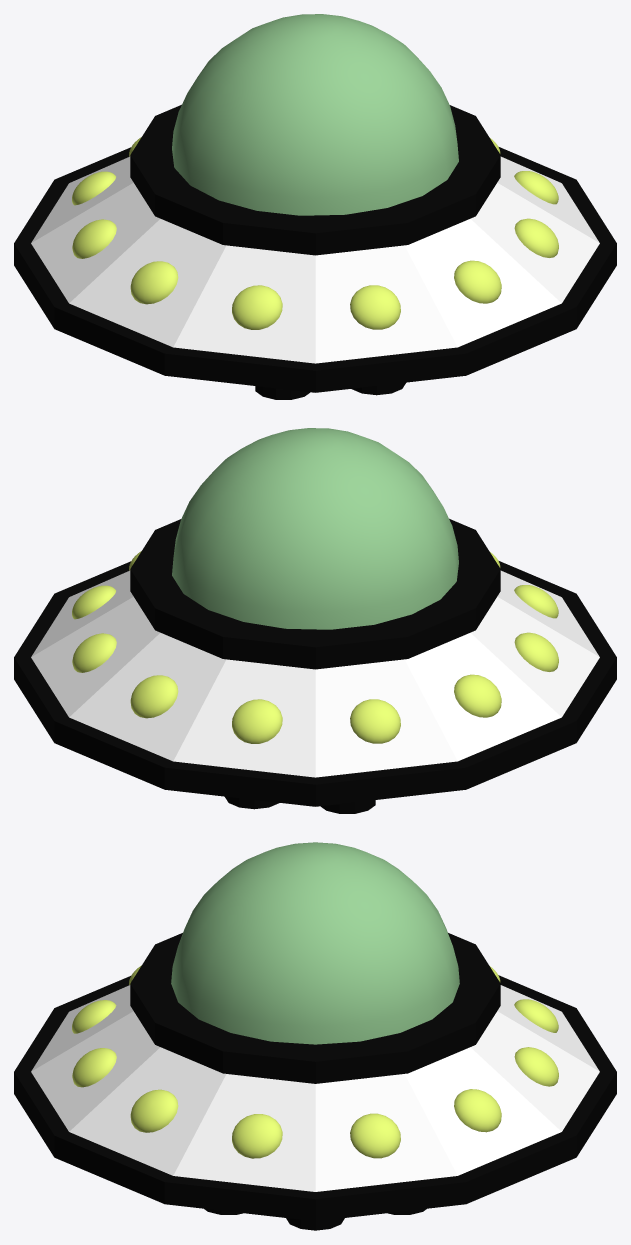
Rendered from EnemySaucer.fbx.
3 renders of one model, top to bottom at view 1: azimuth 30°, elevation 25°; view 2: azimuth 150°, elevation 25°; view 3: azimuth 270°, elevation 25°, orthographic.
Visible parts, largest first — view 1: Body_Top, Window, Body_Mid, Belt, Det (×2), Det1, Det10, Det9, Det2, Det3, Det8; view 2: Body_Top, Window, Body_Mid, Belt, Det8, Det7, Det9, Det6, Det5, Det10, Det, Det4; view 3: Body_Top, Window, Body_Mid, Belt, Det4, Det3, Det5, Det2, Det1, Det6, Det7, Det.
Part boxes in pixels (<box>): Body_Top: <box>31,156,599,363</box>; Window: <box>172,14,458,215</box>; Body_Mid: <box>14,147,616,392</box>; Belt: <box>130,104,500,255</box>; Det (×2): <box>232,285,400,329</box>; Det1: <box>454,260,501,303</box>; Det10: <box>130,261,178,304</box>; Det9: <box>72,219,116,258</box>; Det2: <box>514,218,558,257</box>; Det3: <box>514,171,558,204</box>; Det8: <box>72,171,115,205</box>; Body_Top: <box>31,570,599,777</box>; Window: <box>172,428,458,629</box>; Body_Mid: <box>14,561,616,806</box>; Belt: <box>130,518,500,669</box>; Det8: <box>350,699,400,743</box>; Det7: <box>232,699,282,743</box>; Det9: <box>454,674,501,717</box>; Det6: <box>130,675,178,718</box>; Det5: <box>72,633,116,672</box>; Det10: <box>514,632,558,671</box>; Det: <box>514,585,558,618</box>; Det4: <box>72,585,115,619</box>; Body_Top: <box>31,985,599,1191</box>; Window: <box>171,842,459,1044</box>; Body_Mid: <box>14,975,616,1221</box>; Belt: <box>130,933,500,1083</box>; Det4: <box>350,1113,400,1158</box>; Det3: <box>232,1114,282,1158</box>; Det5: <box>454,1089,501,1132</box>; Det2: <box>130,1089,178,1132</box>; Det1: <box>72,1048,116,1087</box>; Det6: <box>514,1047,558,1086</box>; Det7: <box>514,999,558,1032</box>; Det: <box>72,1000,116,1033</box>.
Size of the model in its own units: 6.42 by 3.65 by 6.42.
